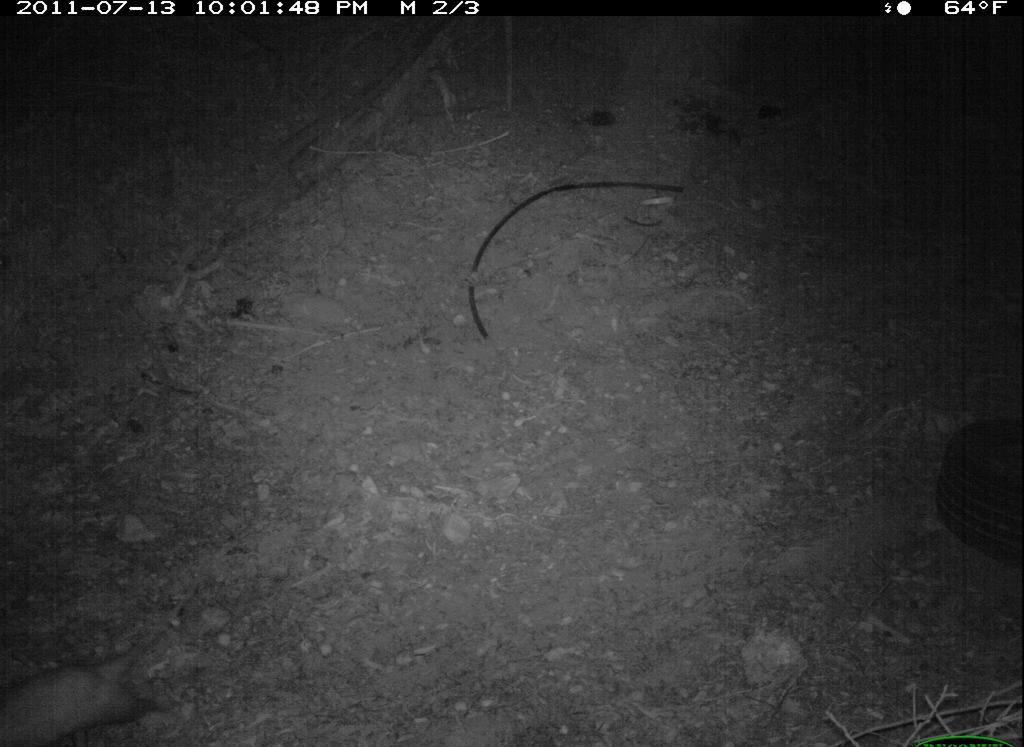opossum: (1, 598, 180, 747)
